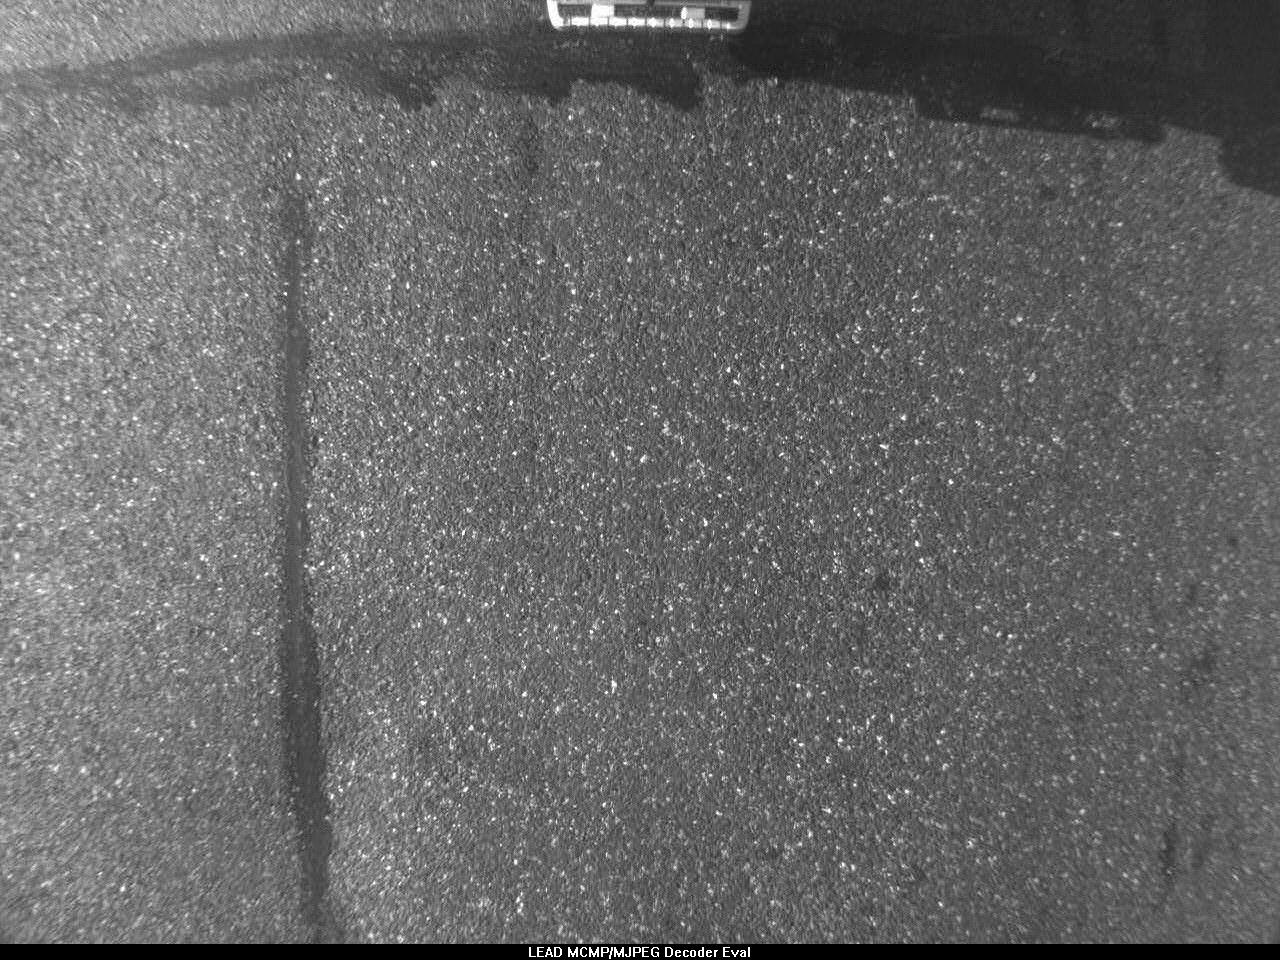sealed: (262, 190, 355, 938)
